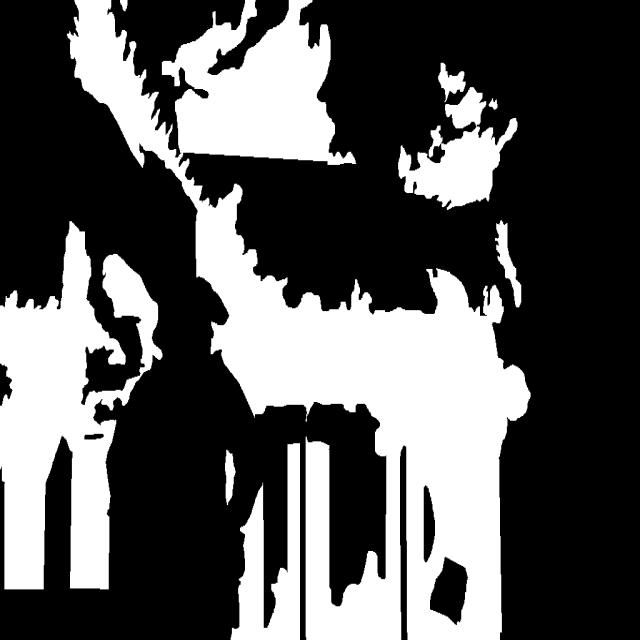fire: (26, 17, 553, 640)
